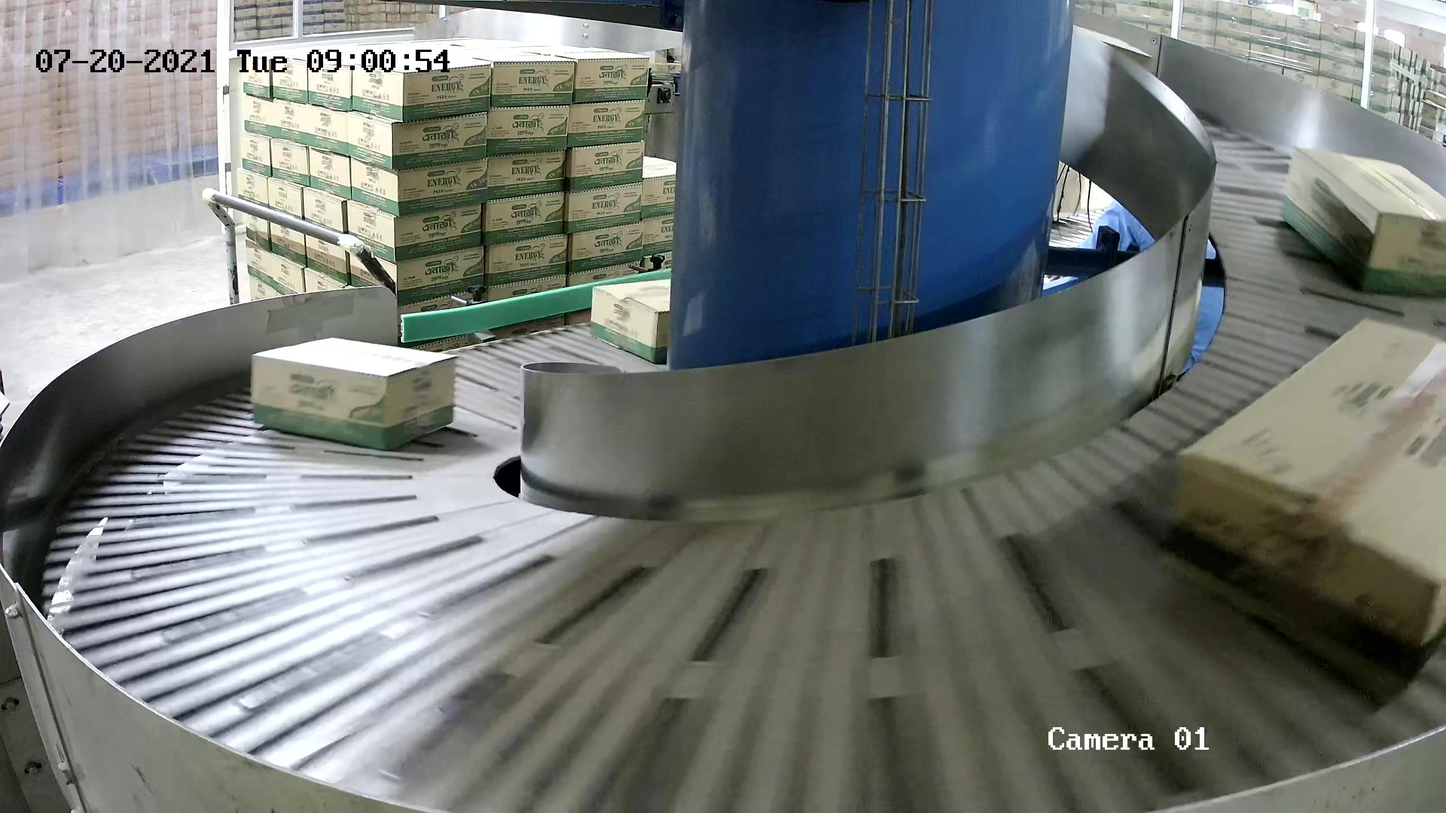Box: (1164, 317, 1446, 698), (1279, 143, 1446, 301), (251, 336, 456, 451), (590, 275, 739, 366)
